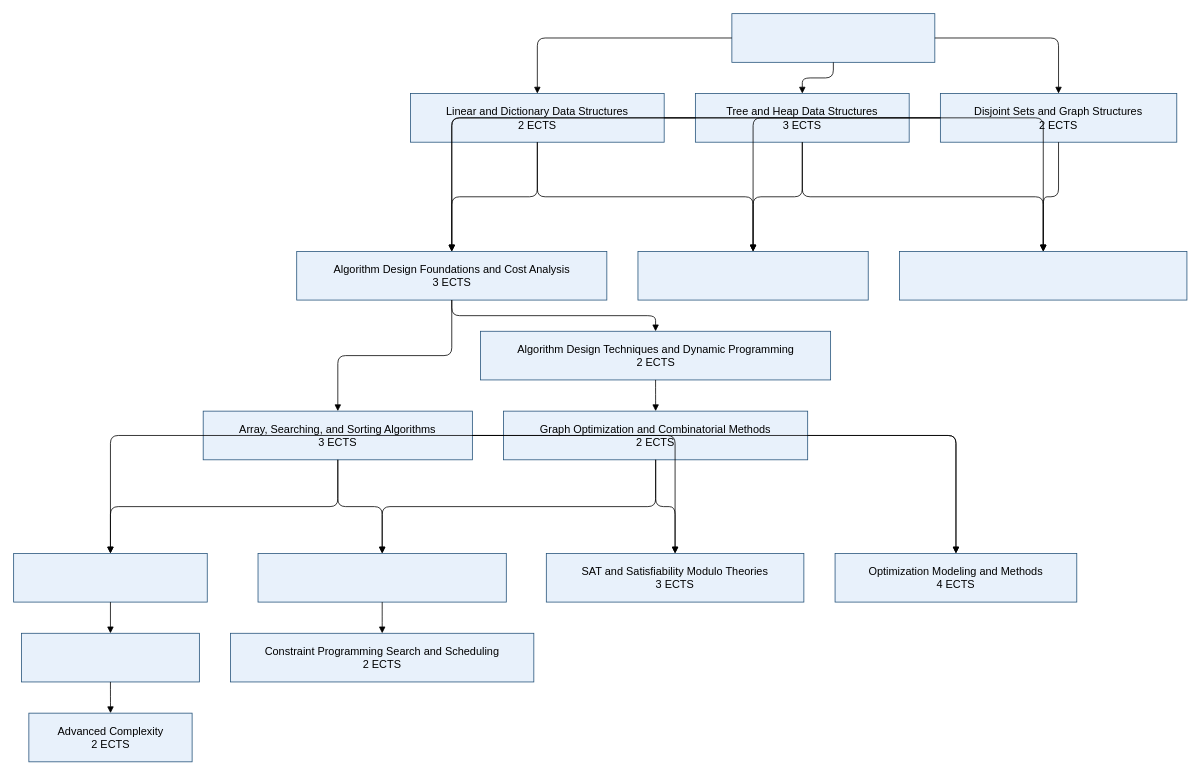
This 1201x776 diagram has some shape labels left out. Each missing label, with the box of its shape:
Biomolecular Sequence Alignment 3 ECTS: (637, 251, 868, 300)
Biosequence Algorithms and String Methods 2 ECTS: (899, 251, 1187, 300)
Complexity Foundations 2 ECTS: (21, 633, 199, 682)
Computability Foundations 3 ECTS: (13, 553, 207, 602)
Constraint Programming Foundations 3 ECTS: (257, 553, 506, 602)
Data Structures Foundations 3 ECTS: (731, 13, 935, 62)
